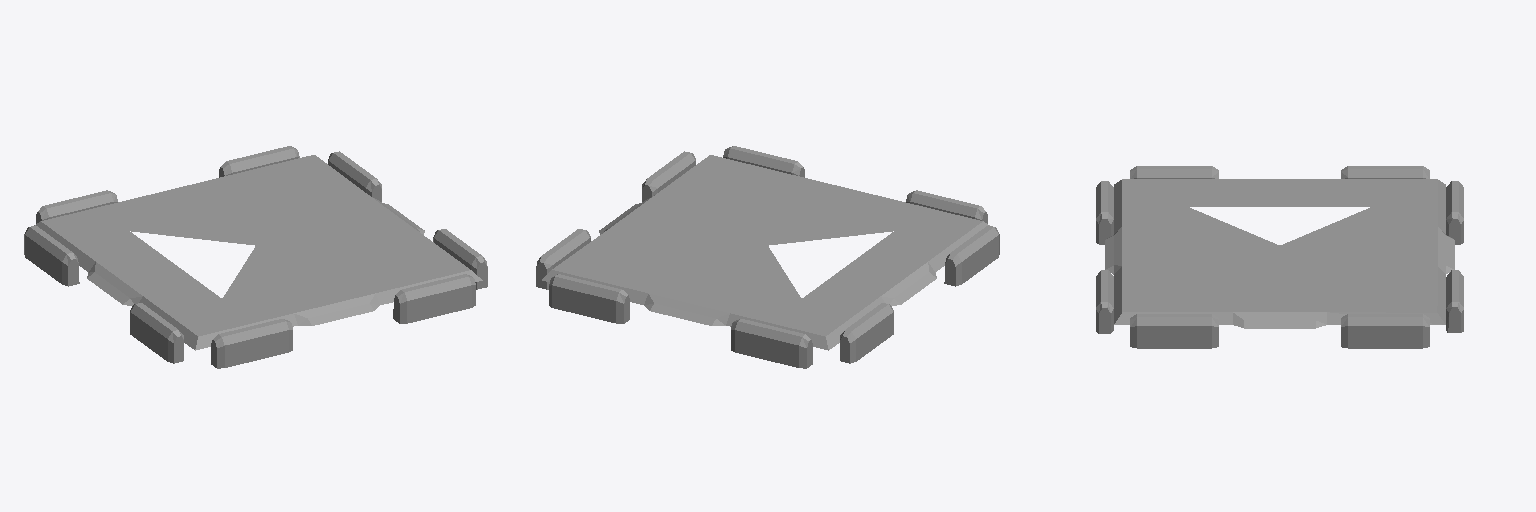
File: Component_Puzzle_NoStand_Cut.obj
The picture shows the model from 3 angles: view 1: azimuth 30°, elevation 25°; view 2: azimuth 150°, elevation 25°; view 3: azimuth 270°, elevation 25°; orthographic projection.
Parts seen in each view (by area): view 1: ModelComponentCut0_6_ModelComponent.002, ModelComponentCut0_5_ModelComponent; view 2: ModelComponentCut0_6_ModelComponent.002, ModelComponentCut0_5_ModelComponent; view 3: ModelComponentCut0_6_ModelComponent.002, ModelComponentCut0_5_ModelComponent.
Part boxes in pixels (x1,y1,x2,y2): ModelComponentCut0_6_ModelComponent.002: (24,146,487,368); ModelComponentCut0_5_ModelComponent: (51,159,460,331); ModelComponentCut0_6_ModelComponent.002: (536,146,999,368); ModelComponentCut0_5_ModelComponent: (566,160,969,331); ModelComponentCut0_6_ModelComponent.002: (1096,166,1463,348); ModelComponentCut0_5_ModelComponent: (1130,182,1429,308).
Size of the model in its own units: 2 by 0.1761 by 2.